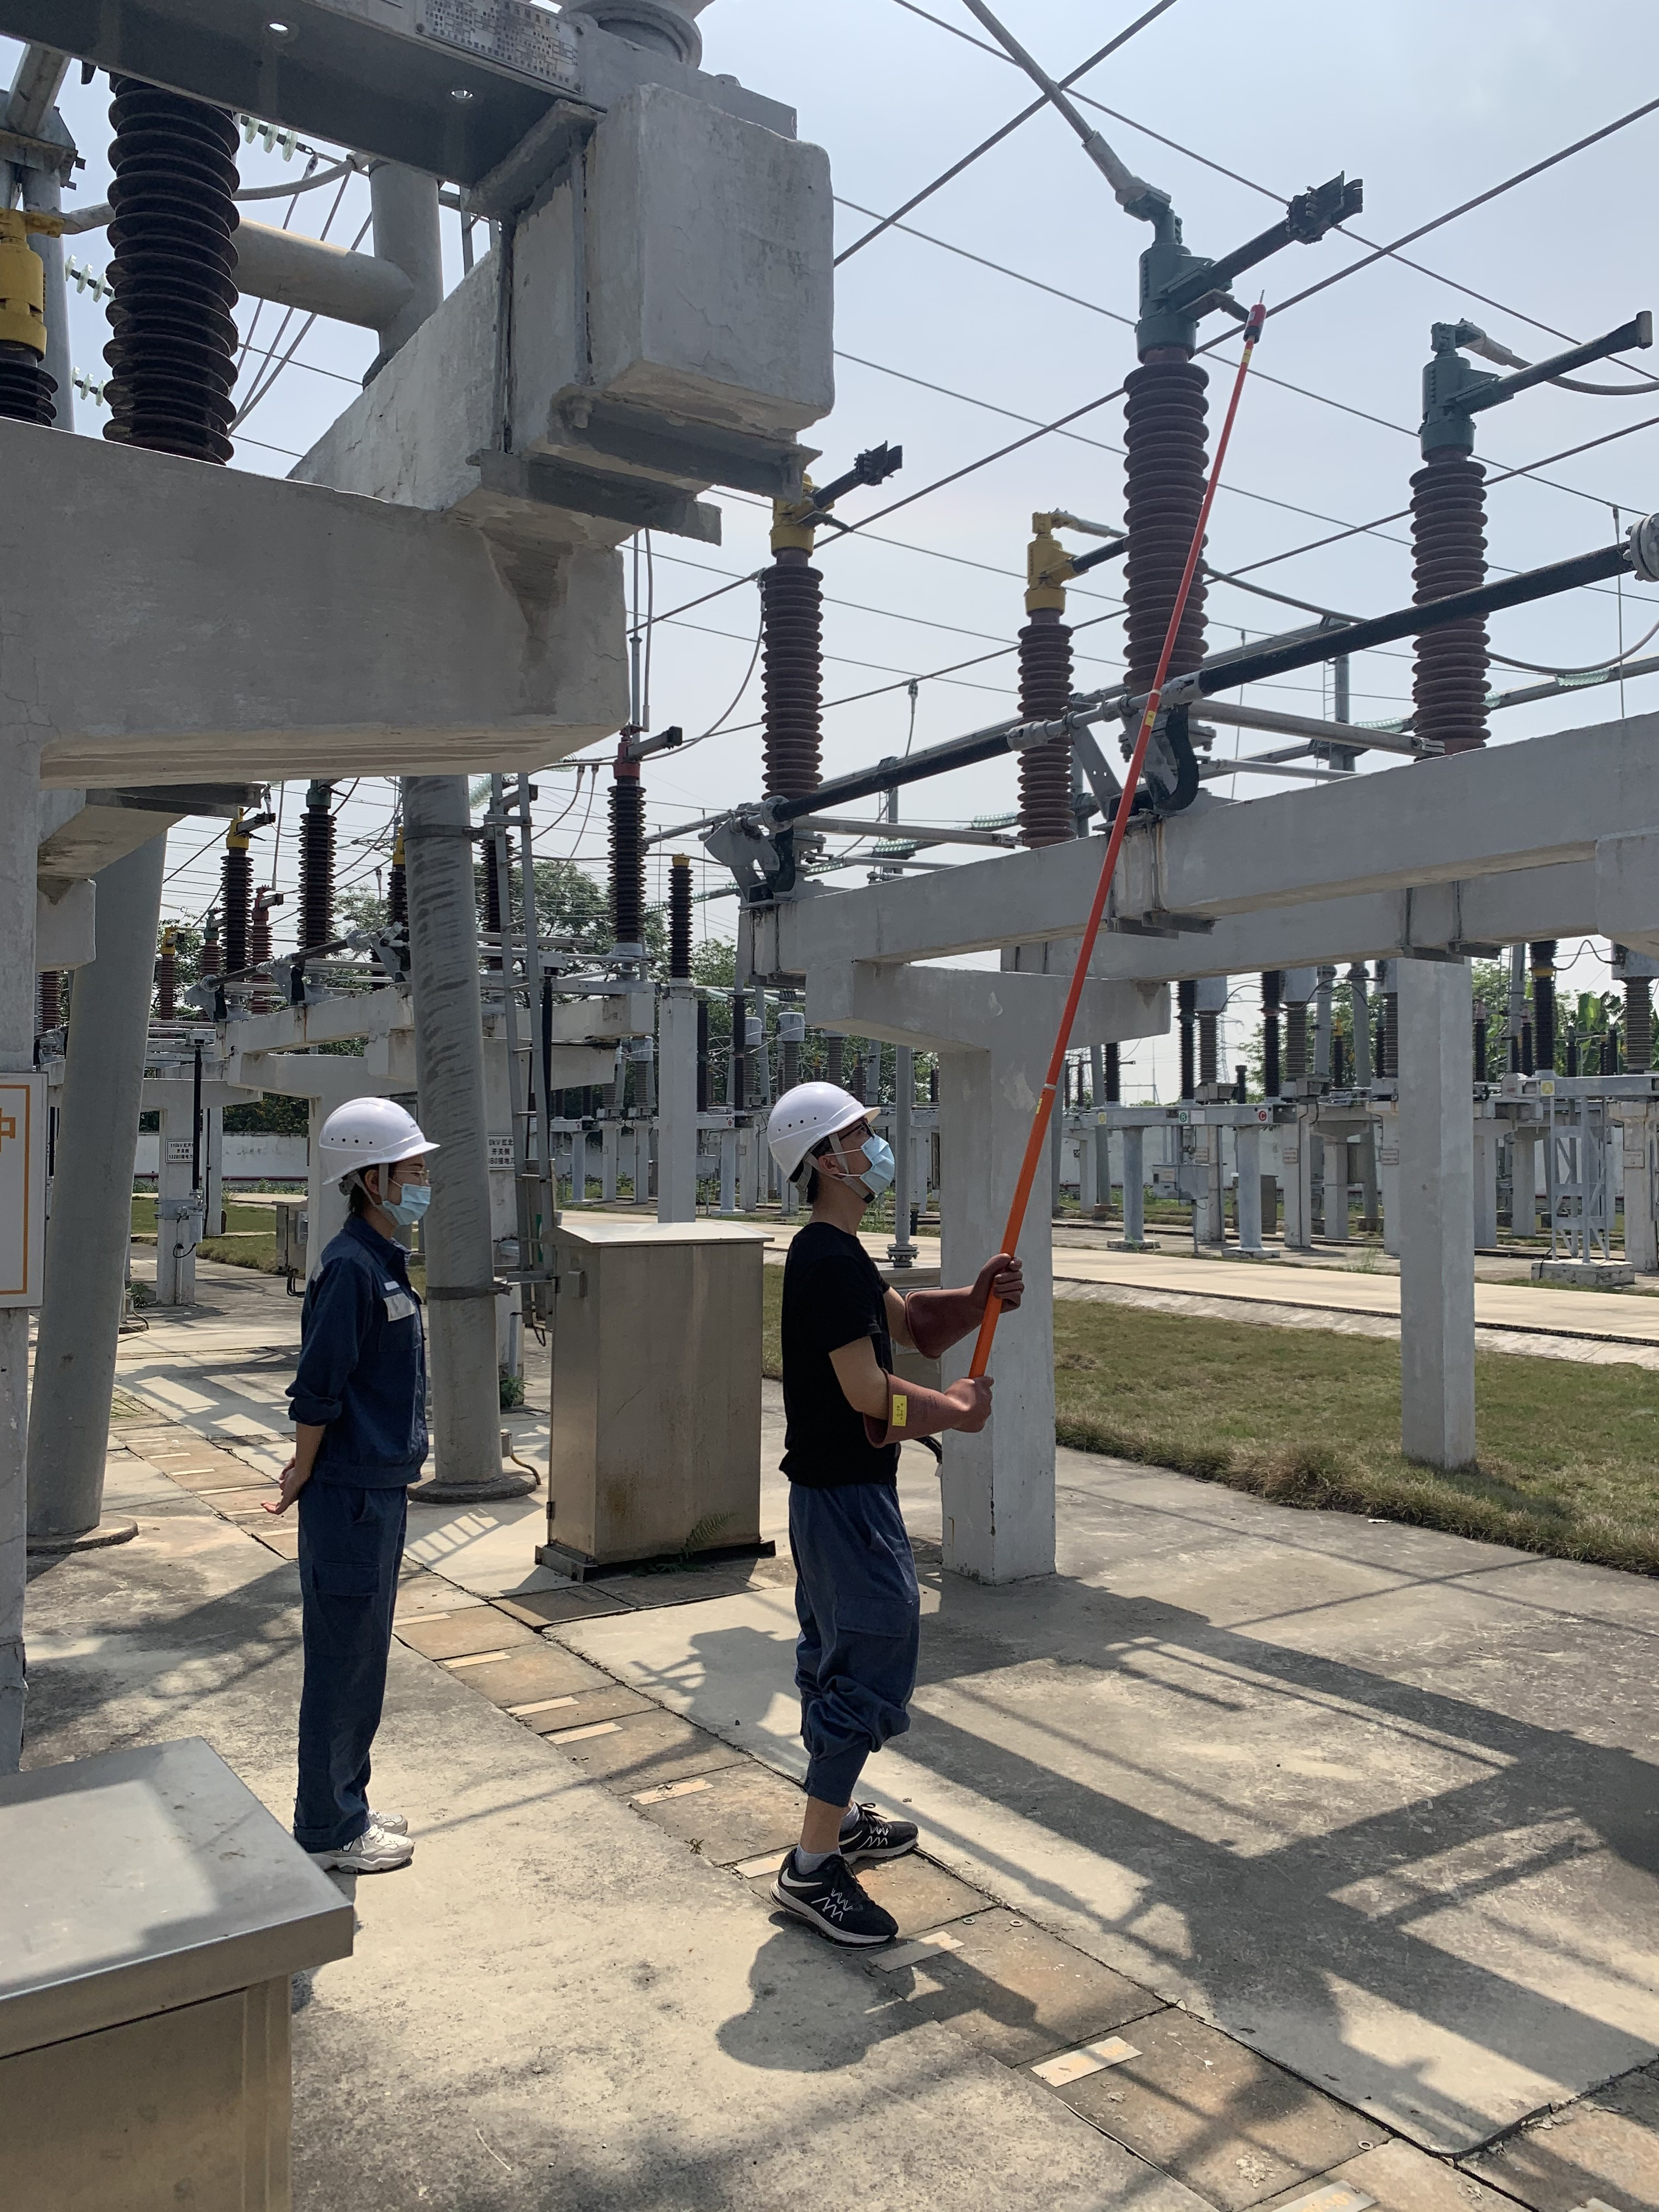downsuit: (301, 1480, 408, 1841), (789, 1489, 917, 1785)
upcloth: (781, 1230, 884, 1446)
upsuit: (307, 1237, 422, 1463)
wrongbottom: (796, 1716, 871, 1876)
